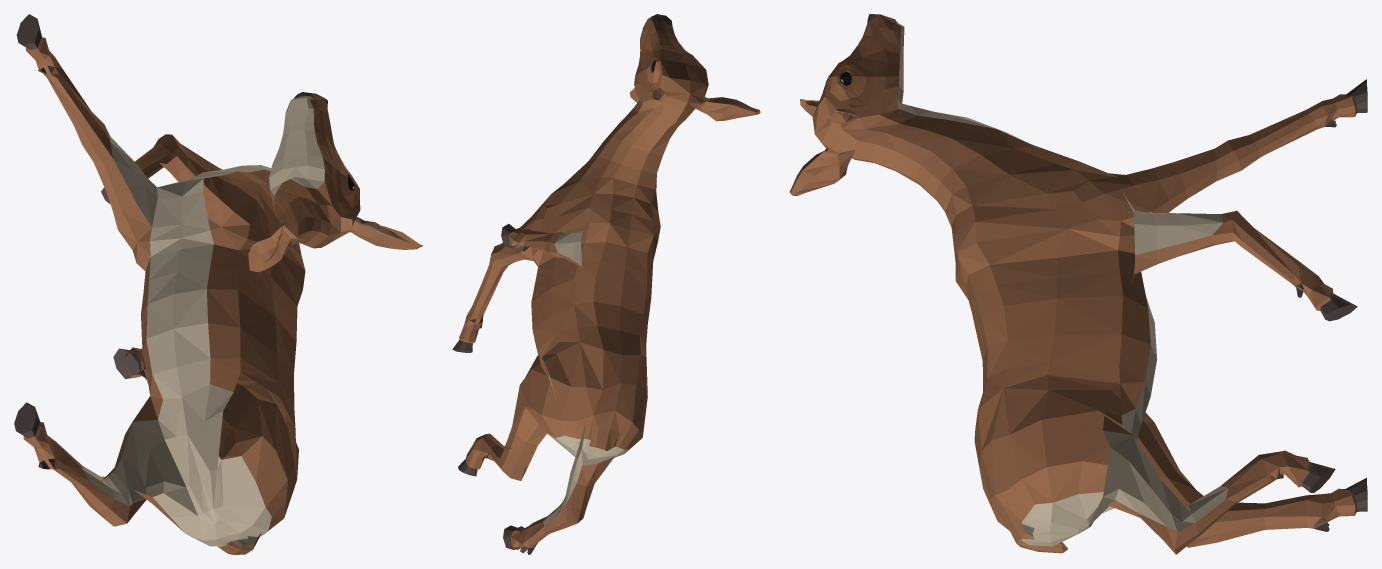
Rendered from deer-walk-0.glb.
The picture shows the model from 3 angles, left to right: view 1: azimuth 30°, elevation 25°; view 2: azimuth 150°, elevation 25°; view 3: azimuth 270°, elevation 25°; orthographic projection. The views are drawn at different scales.
Bounding box in the file's own units: 0.4793 × 1.46 × 1.39.
